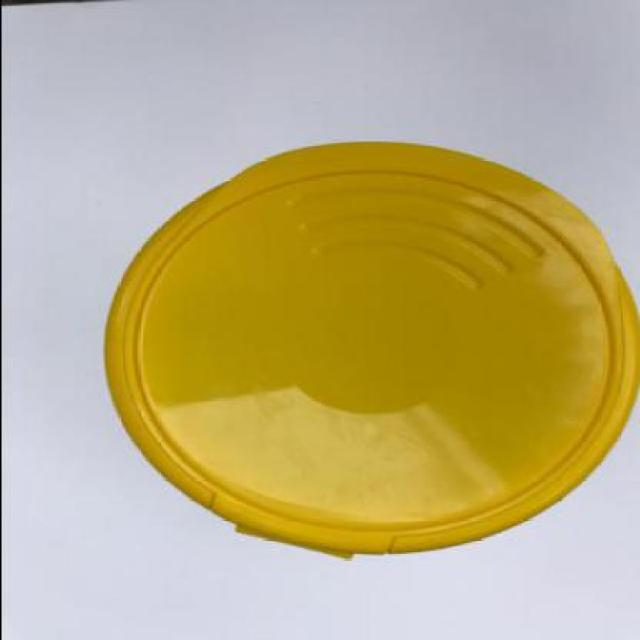PLASTIC: (110, 142, 638, 563)
